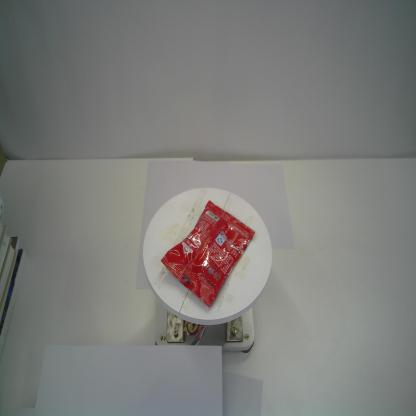Instant Drink: (160, 197, 256, 309)
